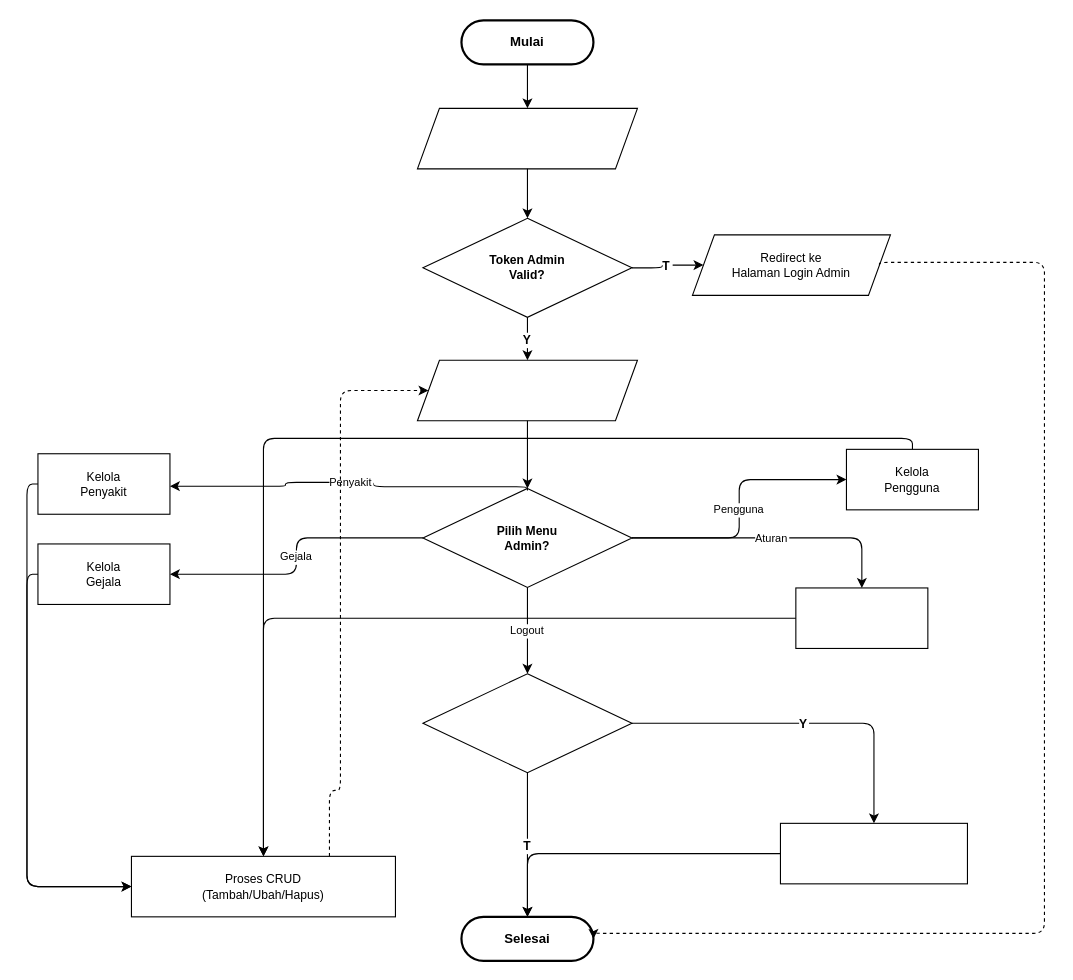
This 1073x980 diagram has some shape labels left out. The shapes that lost their labels are listed below. From the top down, each one's centre as x and y in pixels, then its label:
pixel 526 138: Buka Halaman admin
pixel 526 390: Tampil Admin Dashboard (Statistik Sistem)
pixel 861 617: Kelola Aturan CF
pixel 527 723: Logout Admin?
pixel 873 853: Hapus Token & Redirect ke Login
